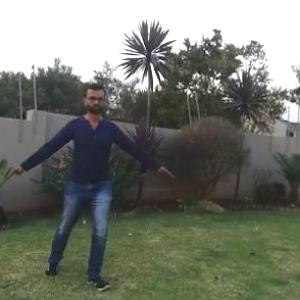land: (34, 91, 160, 246)
